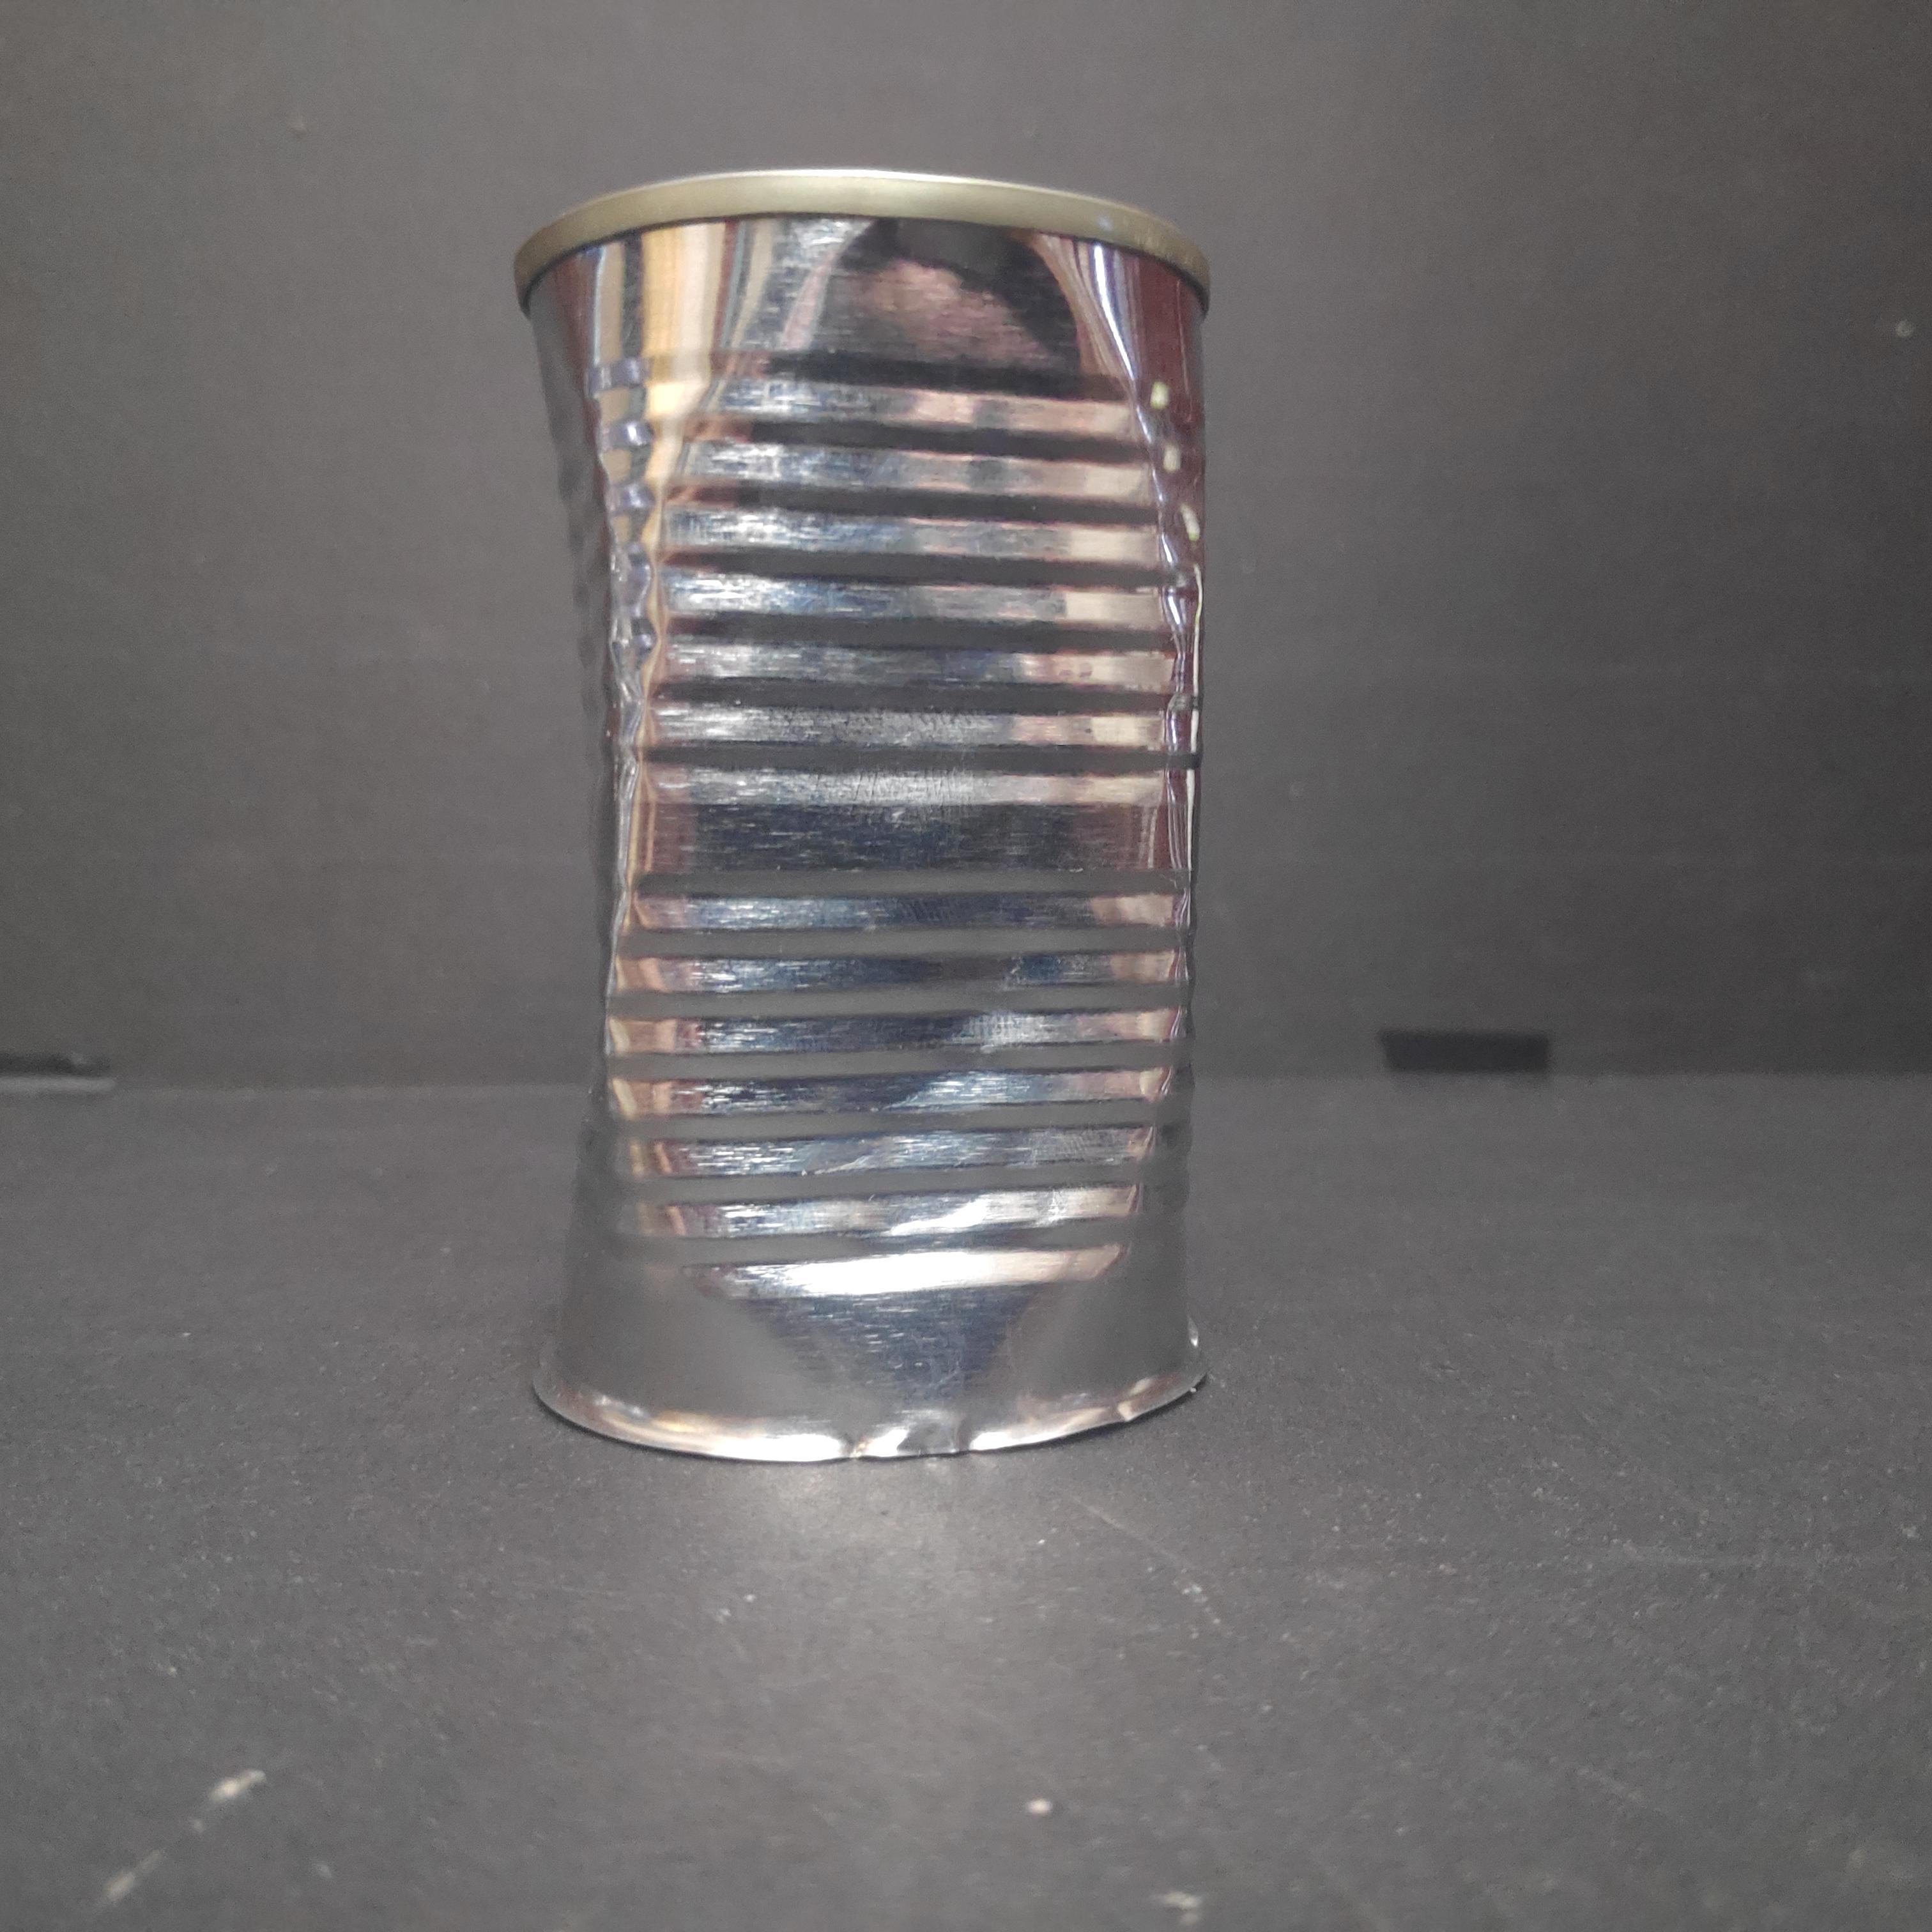Dented: (501, 131, 1226, 1483)
